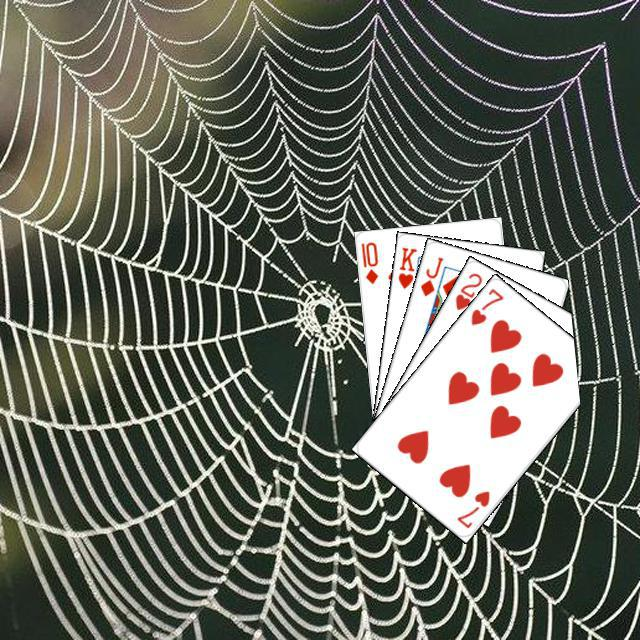10d: (356, 237, 380, 286)
2h: (450, 268, 484, 312)
7h: (452, 486, 492, 530), (466, 283, 505, 327)
Jd: (415, 252, 445, 298)
Kh: (393, 242, 423, 296)
